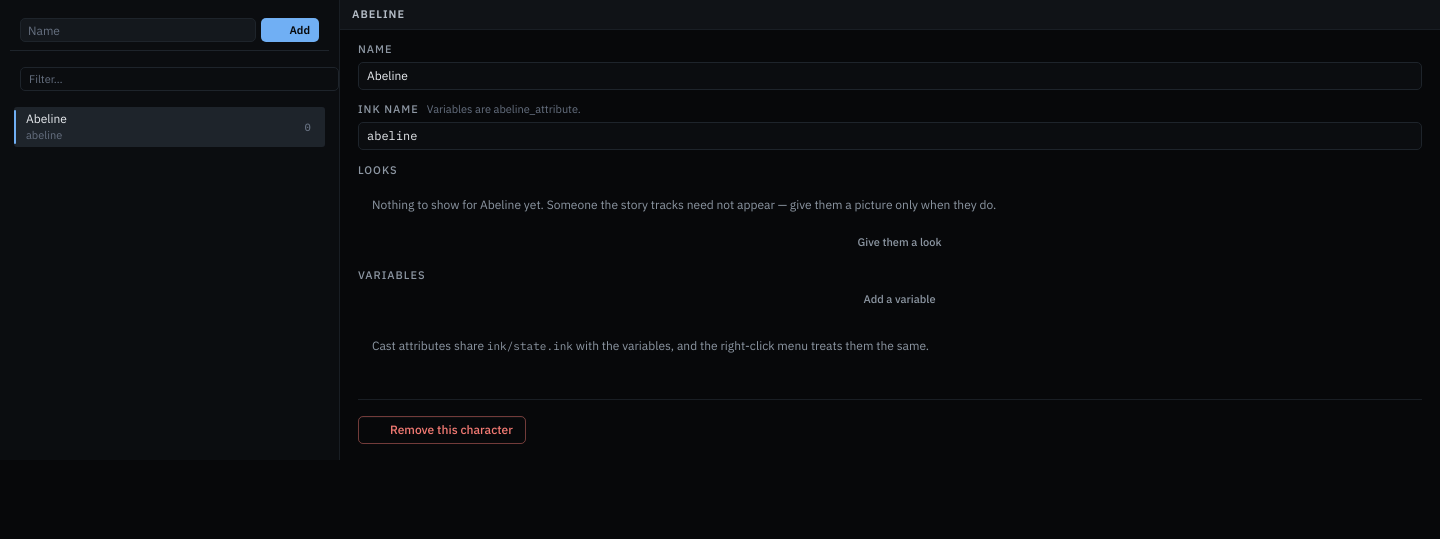
Test case: CastPanel › swaps which fields the row has when its type changes
Click the button "Add a variable" at [890, 300], box [358,288,1422,312]
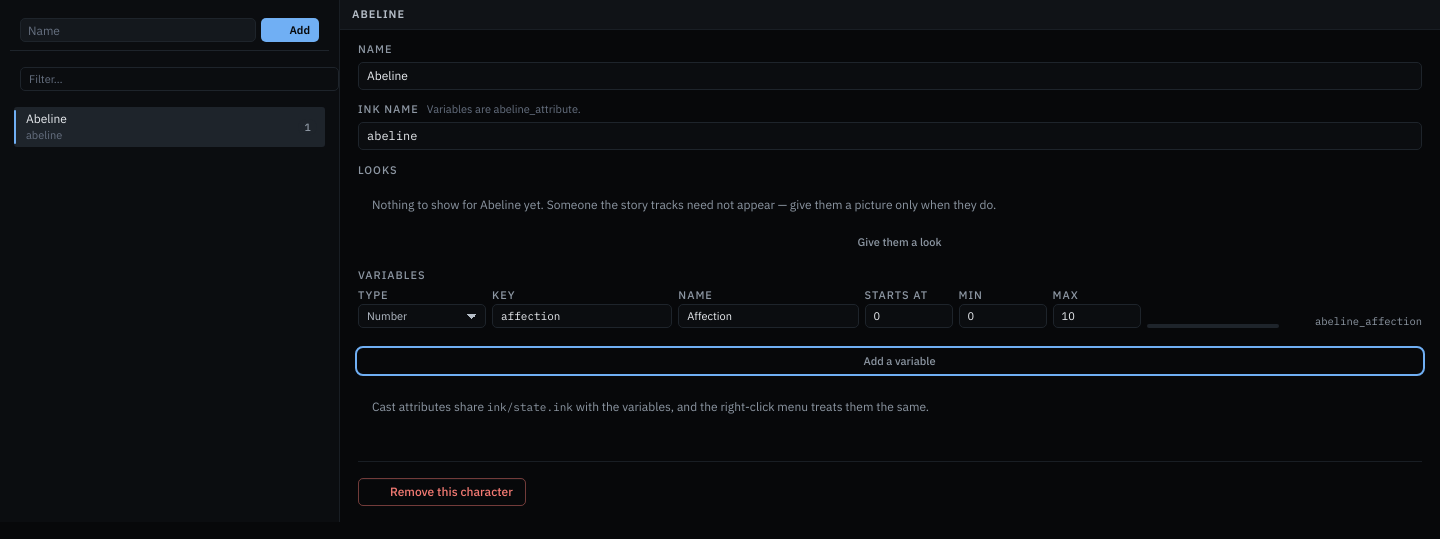
Select "Word" in the dropdown named "Type of Affection" at [422, 316], box [358,304,486,328]
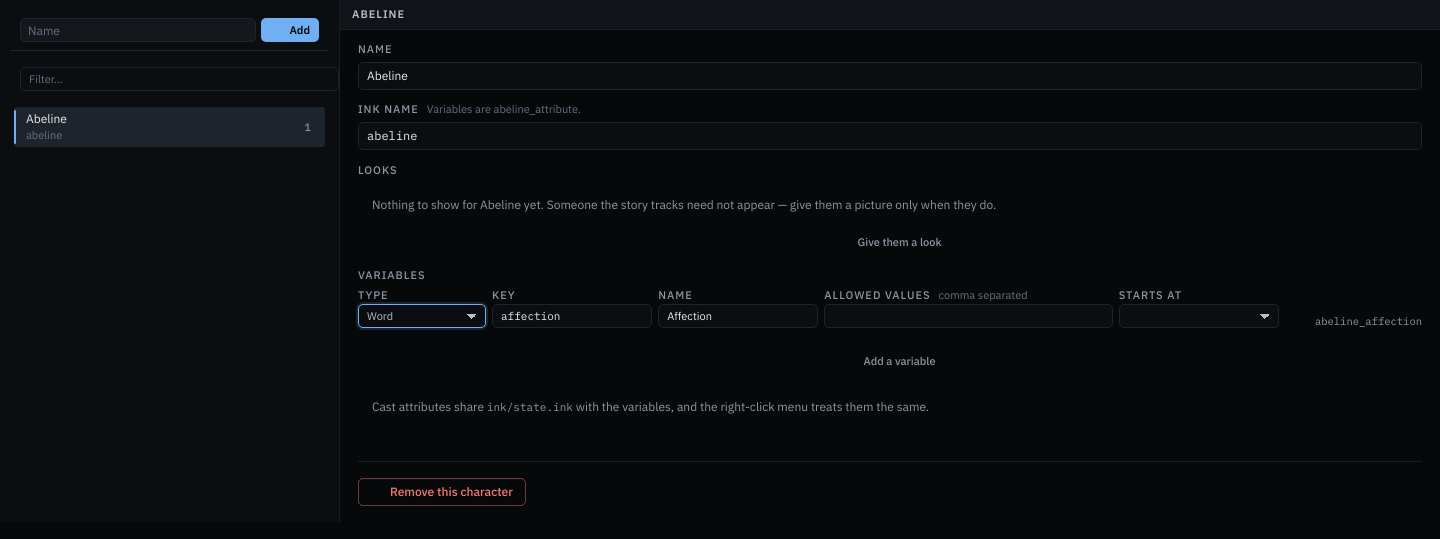
Result: the field named "Allowed values of affection" is empty at [824,304,1113,328]
Select "Yes / no" in the dropdown named "Type of Affection" at [422, 316], box [358,304,486,328]
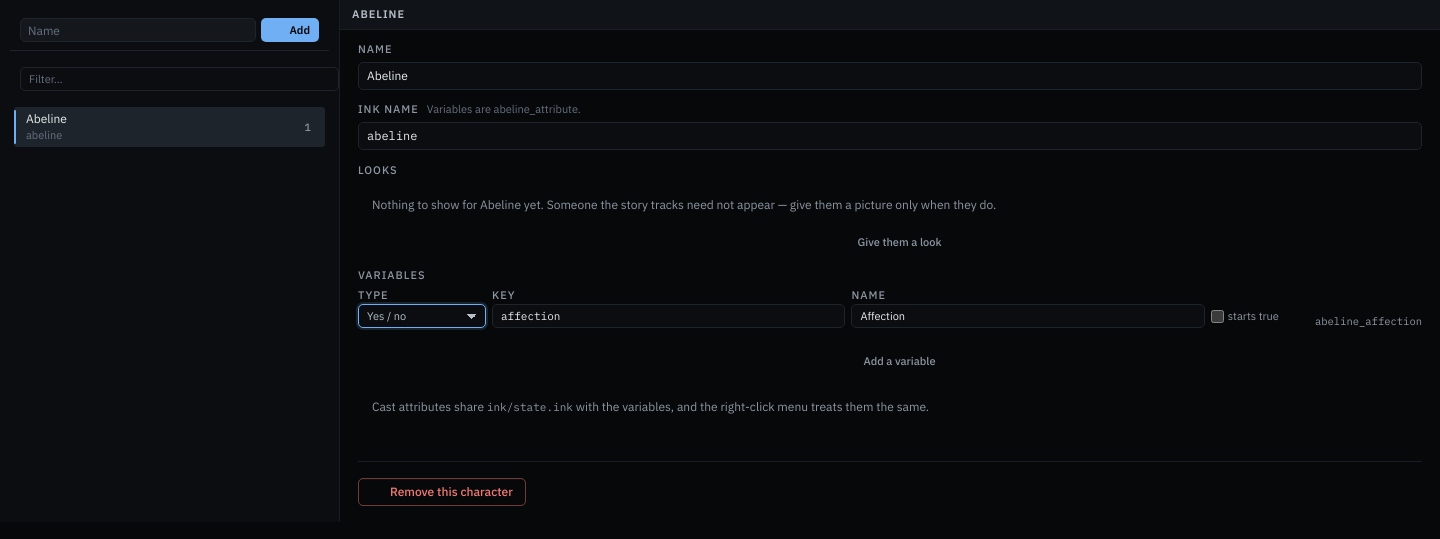
Result: the checkbox labelled "starts true" is not checked at [1211,310,1224,323]
